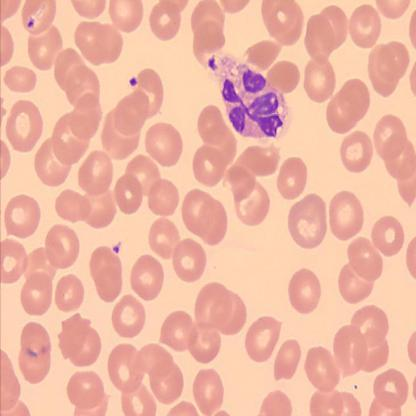Segmented neutrophil: (206, 47, 291, 142)
